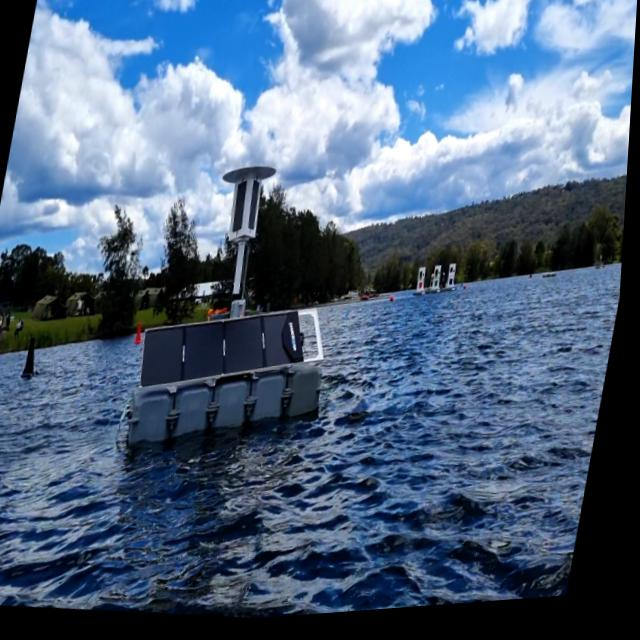led: (232, 185, 254, 238), (246, 181, 264, 237)
